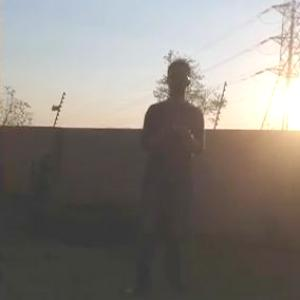follow: (116, 46, 209, 292)
